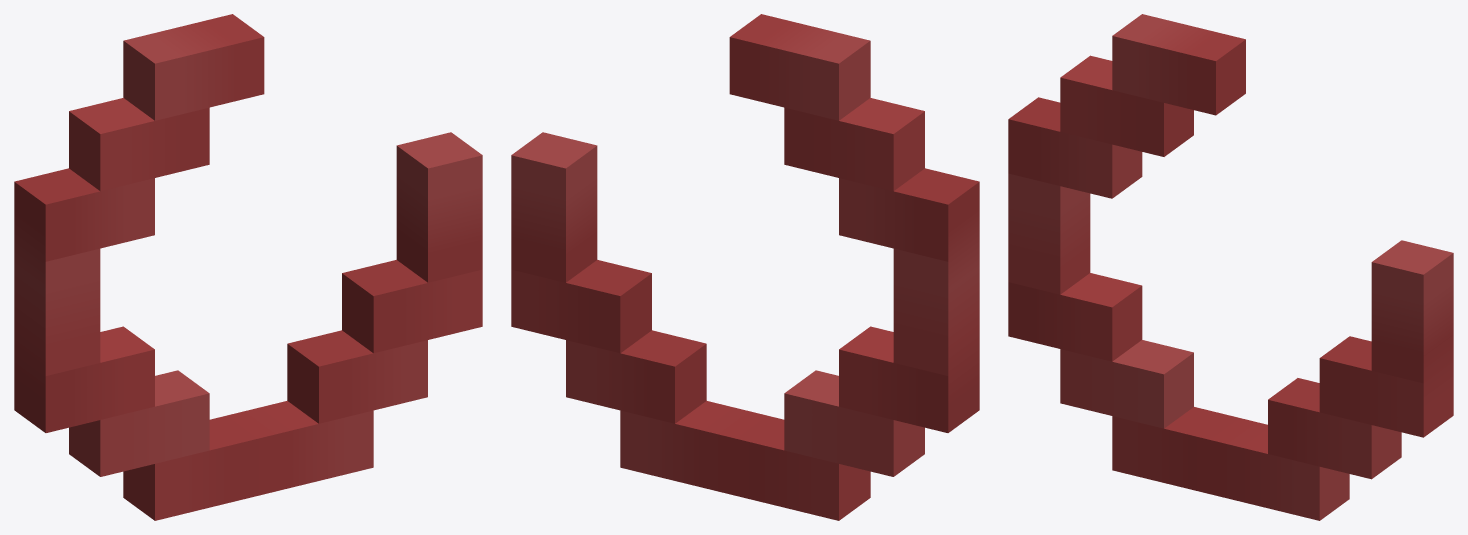
Rendered from Altar_BloodMeter_9.fbx.
The picture shows the model from 3 angles, left to right: view 1: azimuth 30°, elevation 25°; view 2: azimuth 150°, elevation 25°; view 3: azimuth 330°, elevation 25°; orthographic projection. The views are drawn at different scales.
Visible parts, largest first — view 1: Altar_BloodMeter_9; view 2: Altar_BloodMeter_9; view 3: Altar_BloodMeter_9.
Part boxes in pixels (x1=…): Altar_BloodMeter_9: x1=14, y1=14, x2=482, y2=520; Altar_BloodMeter_9: x1=511, y1=14, x2=979, y2=520; Altar_BloodMeter_9: x1=1008, y1=14, x2=1453, y2=520.
Size of the model in its own units: 8 by 8 by 1.
1 material, 1 textured.
